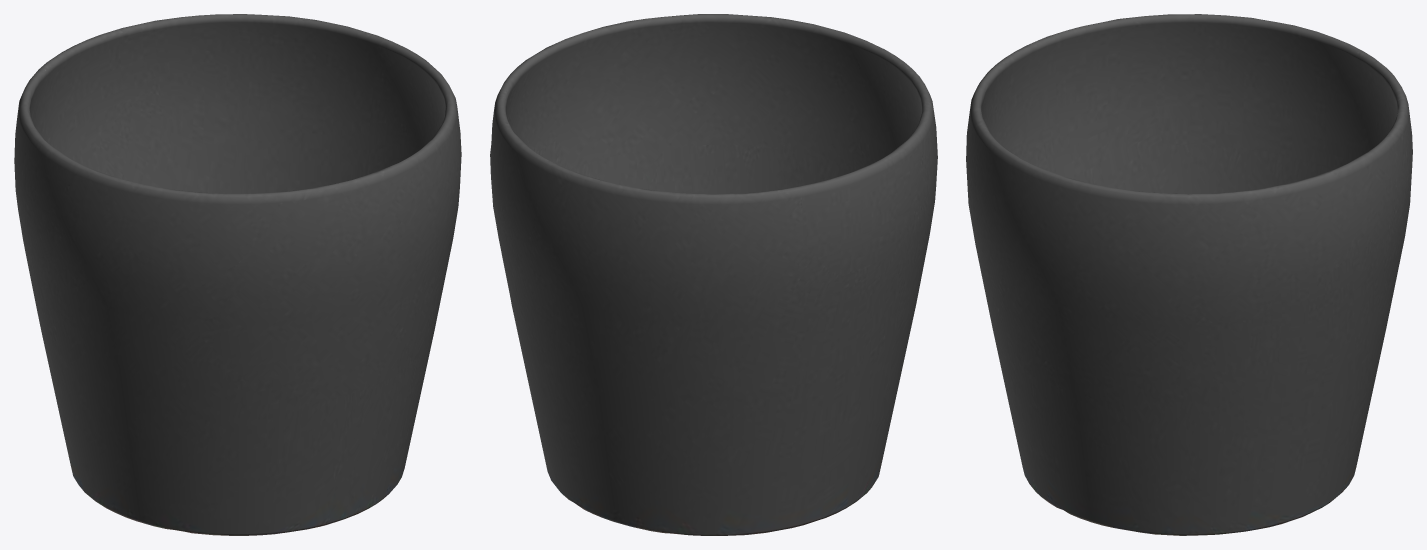
Rendered from persillade_osonka_doniczki_00525611.glb.
The picture shows the model from 3 angles, left to right: view 1: azimuth 30°, elevation 25°; view 2: azimuth 150°, elevation 25°; view 3: azimuth 270°, elevation 25°; orthographic projection.
Visible parts, largest first — view 1: persillade_osonka_doniczki_00525611; view 2: persillade_osonka_doniczki_00525611; view 3: persillade_osonka_doniczki_00525611.
Part boxes in pixels (box(x1,y1,x2,y2)): persillade_osonka_doniczki_00525611: box(14, 14, 461, 535); persillade_osonka_doniczki_00525611: box(490, 14, 937, 535); persillade_osonka_doniczki_00525611: box(966, 14, 1412, 535).
Bounding box in the file's own units: 0.175 × 0.1567 × 0.175.
1 material, 1 textured.
